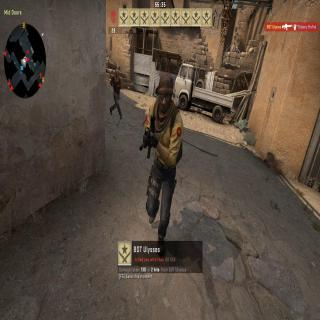T-Body: (140, 73, 186, 259), (109, 70, 123, 120)
T-Head: (156, 73, 174, 110), (114, 70, 118, 78)
